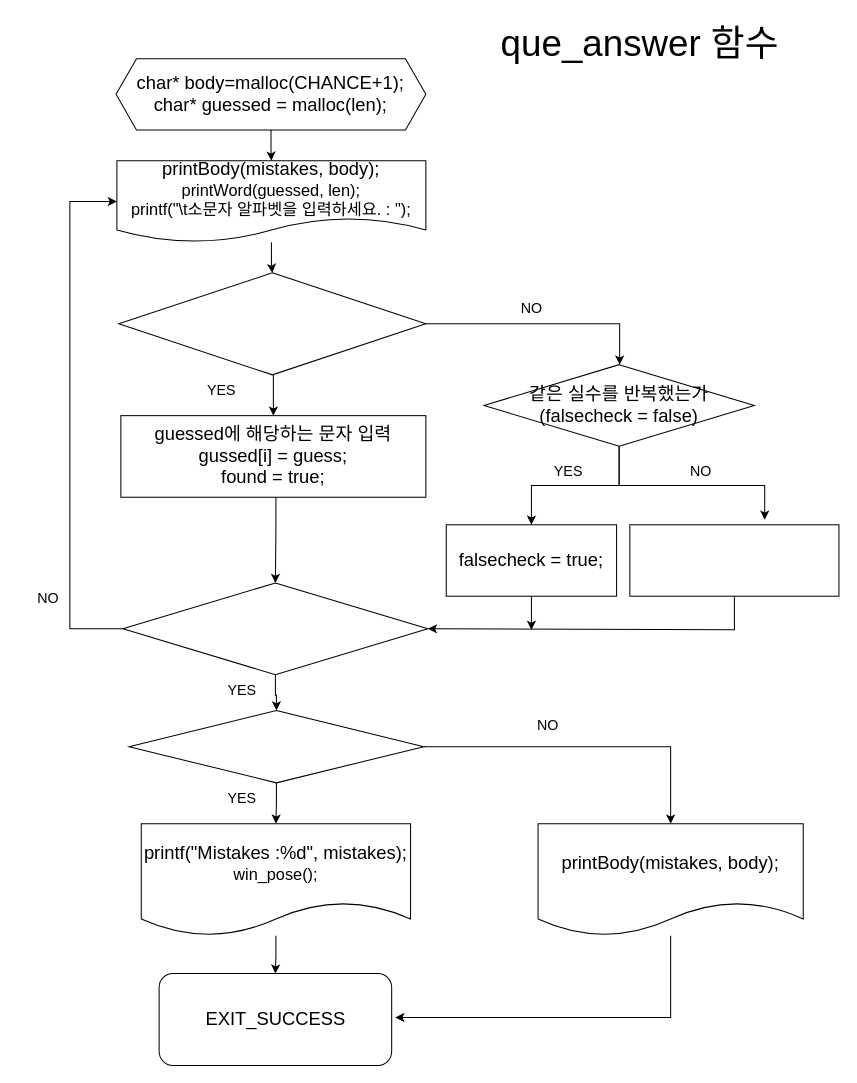
This 857x1083 diagram has some shape labels left out. Here are the shapes that lost their labels. From the top down, the centre of each, then its label:
point 272,323: guess가 word에 포함 되는가 (found = false)
point 734,560: falseWord[mistake] = guess; mistake++
point 275,628: mistakes<CHANCE && win !=NULL
point 276,746: win==NULL
